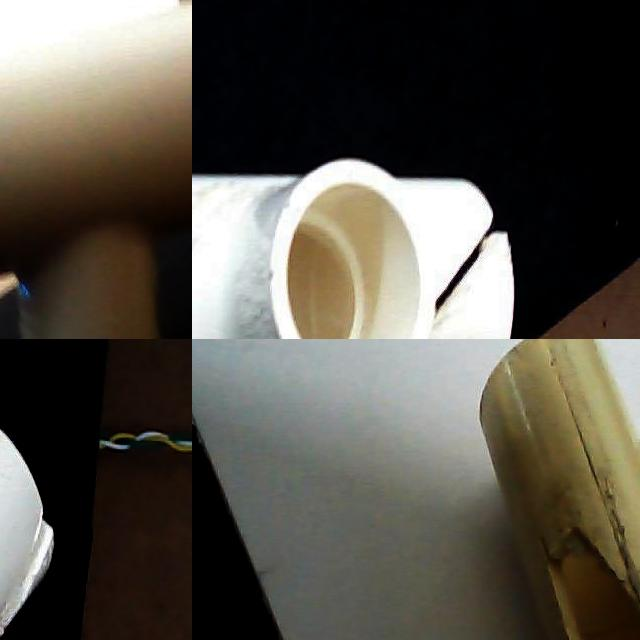Defective: (547, 527, 640, 640), (0, 498, 62, 636), (435, 232, 500, 322)
T Joint: (477, 339, 640, 640)
